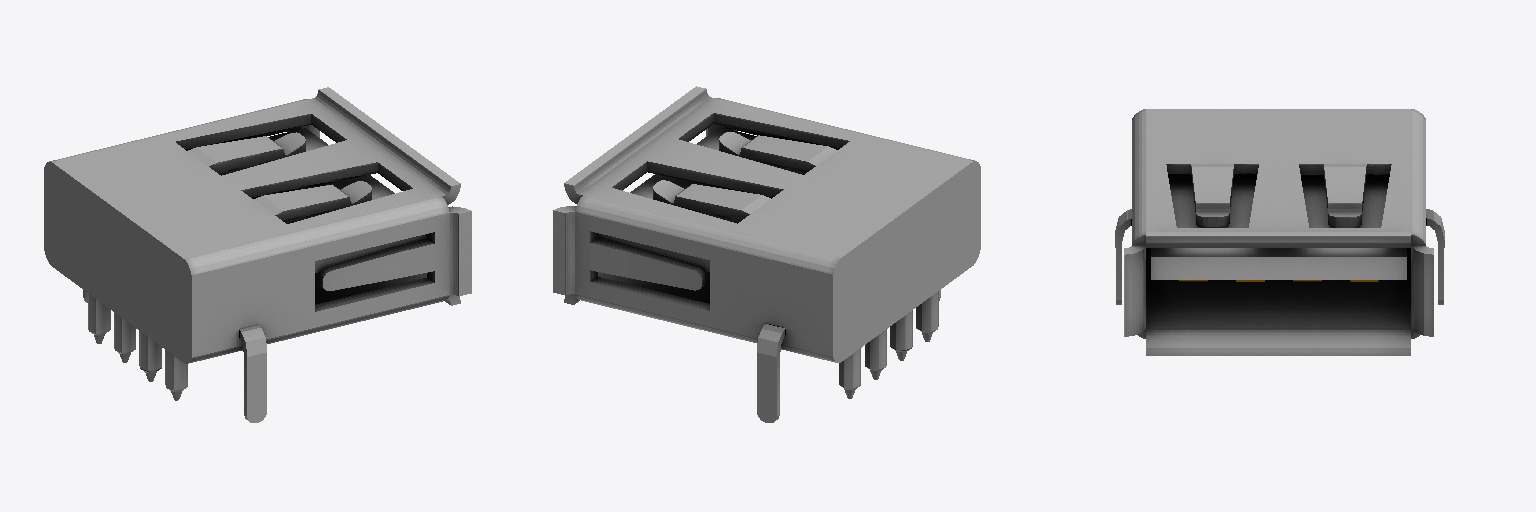
3 views of the same model, side by side, from view 1: azimuth 30°, elevation 25°; view 2: azimuth 150°, elevation 25°; view 3: azimuth 270°, elevation 25° (orthographic).
Visible parts, largest first — view 1: Cube.021_Cube.063; view 2: Cube.021_Cube.063; view 3: Cube.021_Cube.063.
Boxes of the visible parts, <box> form: Cube.021_Cube.063: <box>44,87,471,422</box>; Cube.021_Cube.063: <box>553,86,980,422</box>; Cube.021_Cube.063: <box>1115,109,1444,355</box>.
Size of the model in its own units: 0.0753 by 0.0452 by 0.0775.
Materials: 1 (1 with a texture image).